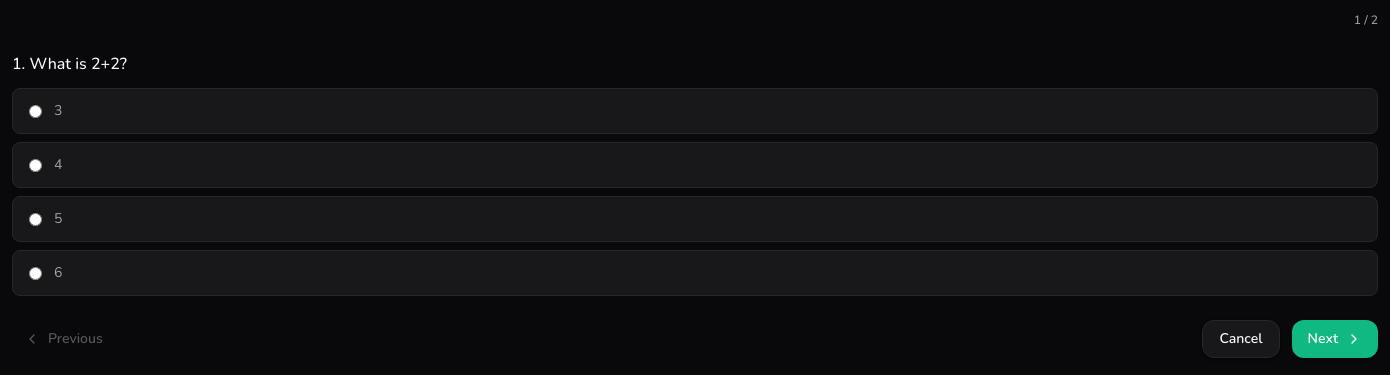
Test: AssessmentTaker › navigates back when Previous is clicked
Click the button "Next".
click(1335, 339)  # box [1292, 320, 1378, 358]
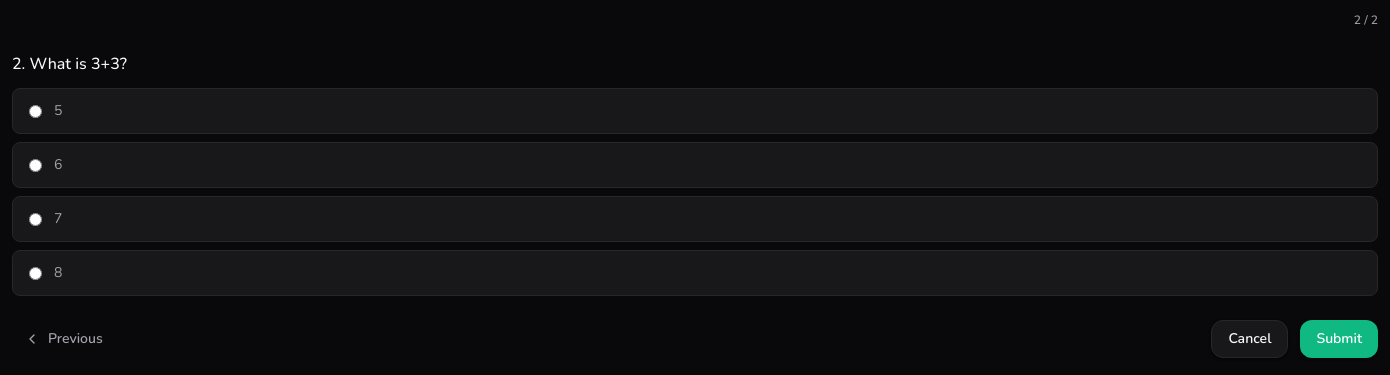
Click the button "Previous".
click(63, 339)  # box [12, 323, 115, 355]
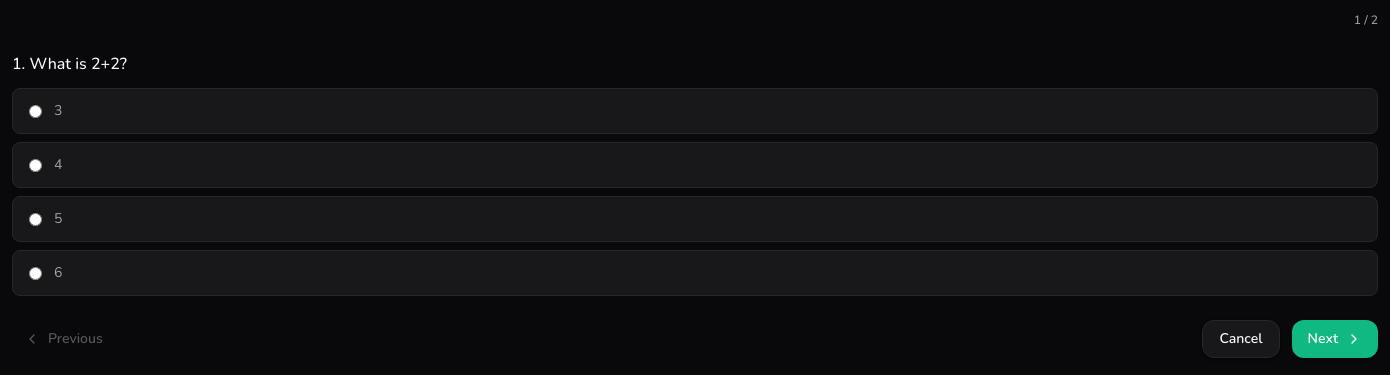
Check: the text "1. What is 2+2?" is shown, box [12, 53, 127, 75]
